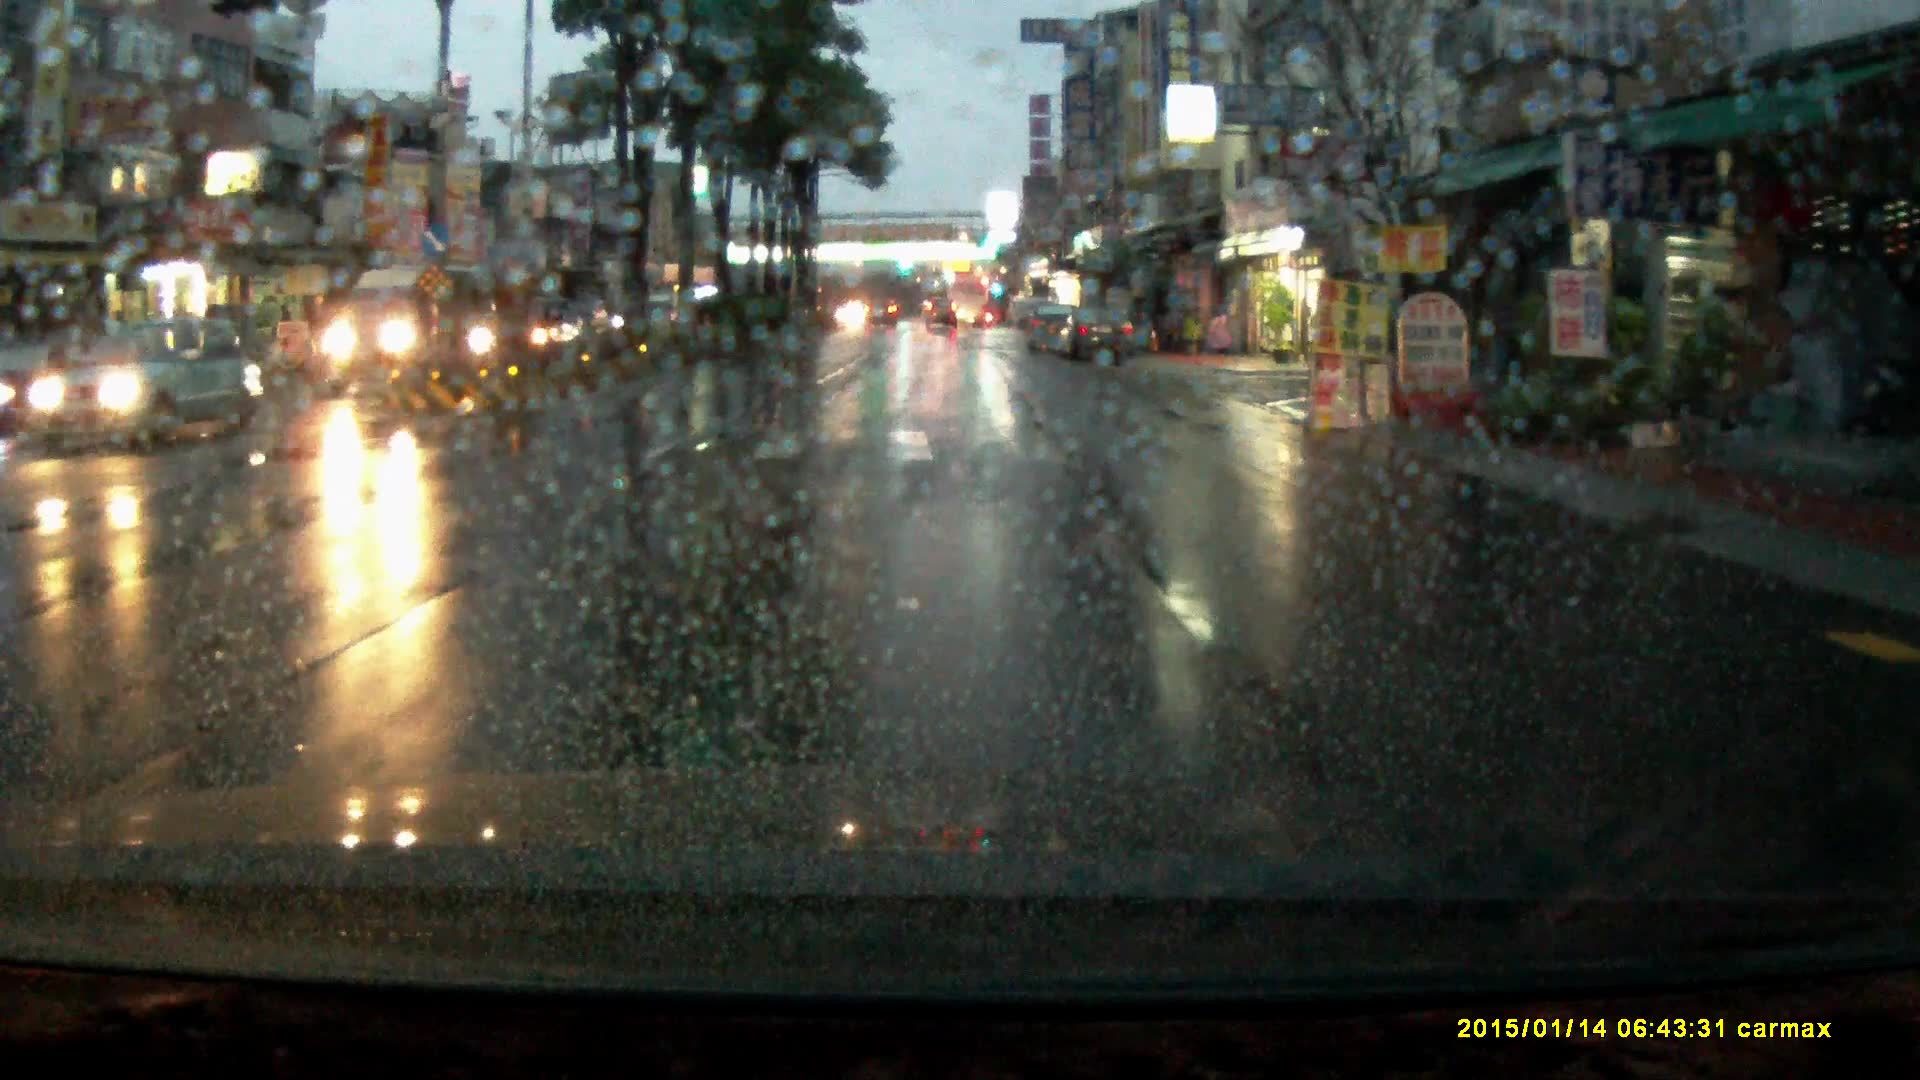vehicle: (47, 316, 252, 454), (323, 264, 483, 389), (467, 291, 576, 367), (1056, 306, 1137, 365), (1025, 302, 1077, 357), (945, 274, 986, 328), (924, 295, 957, 332), (862, 298, 898, 328)
